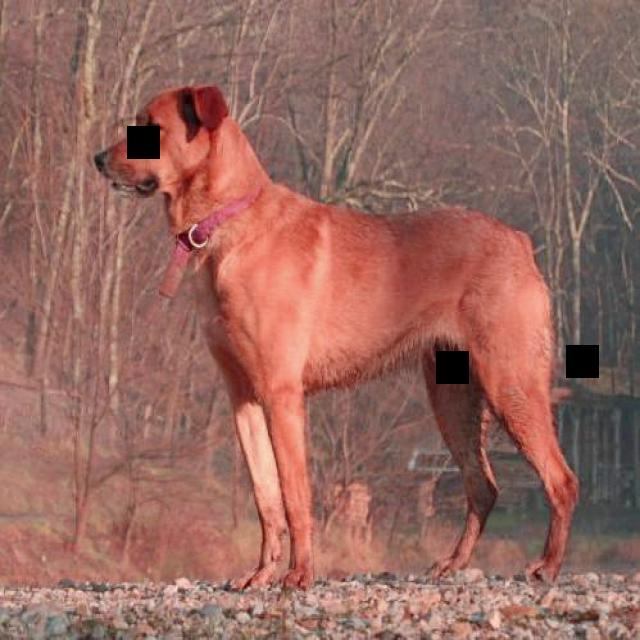adult_dog: (94, 82, 583, 596)
